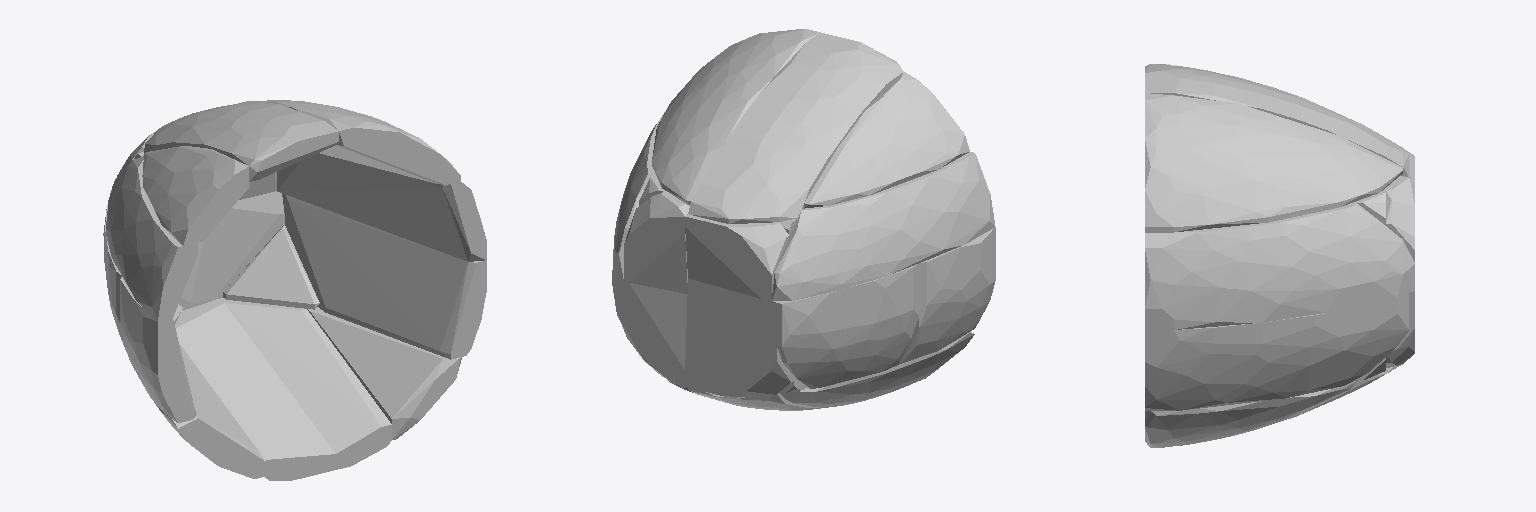
Rendered from Ecoforms_Plant_Container_B4_Har_collision.obj.
3 views of the same model, side by side, from view 1: azimuth 30°, elevation 25°; view 2: azimuth 150°, elevation 25°; view 3: azimuth 270°, elevation 25° (orthographic).
Parts seen in each view (by area): view 1: convex_8, convex_2, convex_9, convex_6, convex_5, convex_3, convex_7, convex_4, convex_0, convex_11, convex_1, convex_17 (+3 smaller); view 2: convex_5, convex_3, convex_10, convex_0, convex_4, convex_12, convex_11, convex_14, convex_18, convex_16, convex_1, convex_9 (+1 smaller); view 3: convex_9, convex_0, convex_8, convex_5, convex_7, convex_18, convex_16, convex_19, convex_6.
Part boxes in pixels (x1,y1,x2,y2): convex_8: (282, 193, 486, 359); convex_2: (175, 299, 335, 480); convex_9: (277, 153, 486, 261); convex_6: (219, 298, 391, 469); convex_5: (144, 102, 338, 181); convex_3: (106, 156, 197, 321); convex_7: (307, 307, 461, 439); convex_4: (142, 146, 248, 245); convex_0: (242, 100, 460, 184); convex_11: (120, 277, 195, 422); convex_1: (154, 344, 264, 478); convex_17: (223, 224, 319, 309); convex_5: (688, 32, 903, 223); convex_3: (772, 152, 994, 301); convex_10: (777, 264, 918, 388); convex_0: (652, 29, 819, 205); convex_4: (804, 72, 969, 208); convex_12: (685, 278, 793, 396); convex_11: (900, 227, 995, 363); convex_14: (685, 214, 788, 301); convex_18: (624, 192, 689, 293); convex_16: (619, 280, 687, 386); convex_1: (780, 332, 974, 406); convex_9: (613, 109, 666, 280); convex_9: (1145, 203, 1414, 329); convex_0: (1145, 93, 1402, 232); convex_8: (1145, 293, 1408, 410); convex_5: (1145, 64, 1408, 176); convex_7: (1145, 381, 1355, 447); convex_18: (1386, 176, 1414, 261); convex_16: (1386, 291, 1414, 367); convex_19: (1353, 188, 1385, 225); convex_6: (1181, 364, 1402, 445).
Bounding box in the file's own units: 0.1025 × 0.1025 × 0.0737.